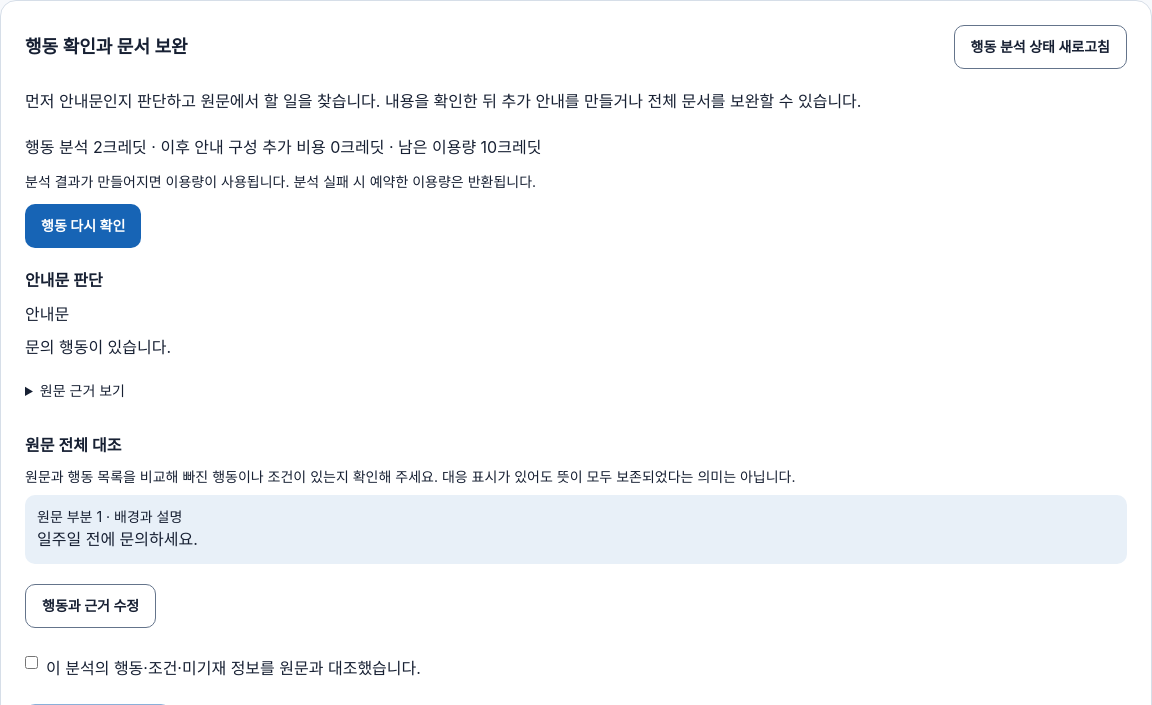
Test: 행동 분석과 보완 흐름 › 다른 버전의 분석을 불러오면 이전 확인 체크를 새 버전에 넘기지 않는다
Step 1. Click the checkbox labelled "이 분석의 행동·조건·미기재 정보를 원문과 대조했습니다." → point(32, 663), box [25,656,38,669]
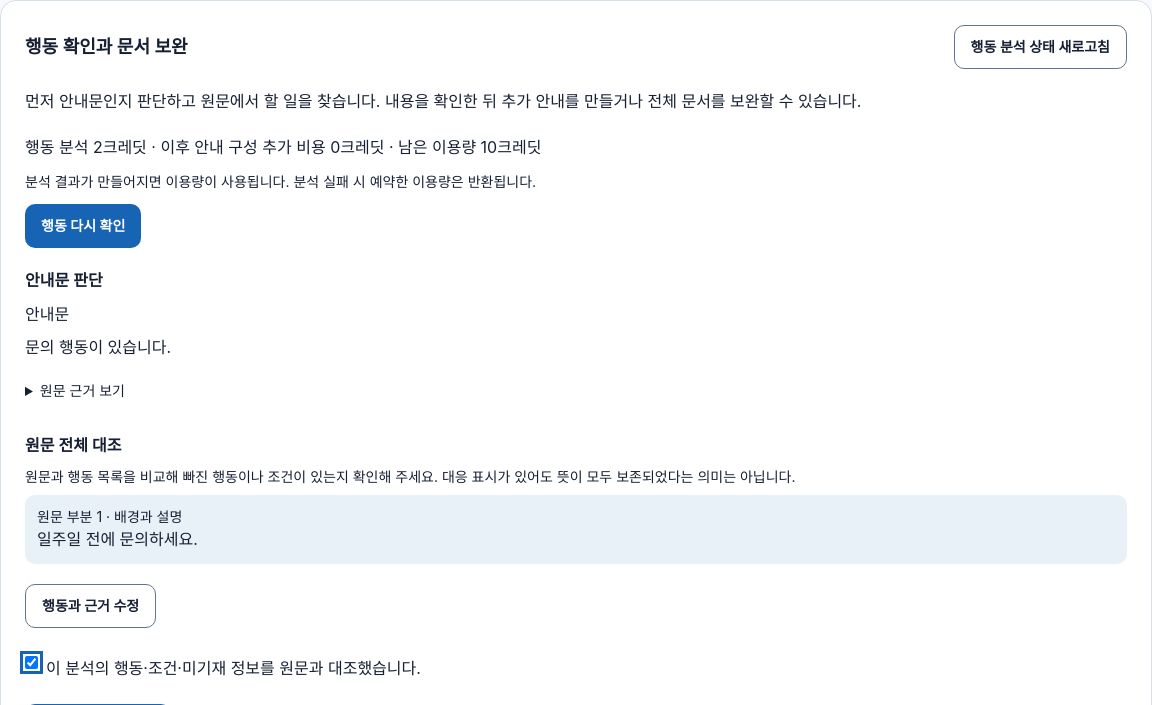
Now the checkbox labelled "이 분석의 행동·조건·미기재 정보를 원문과 대조했습니다." is checked, box [25,656,38,669]
Step 2. Click the button "행동 분석 상태 새로고침" → point(1040, 47), box [954,25,1127,69]
(page scrolled)
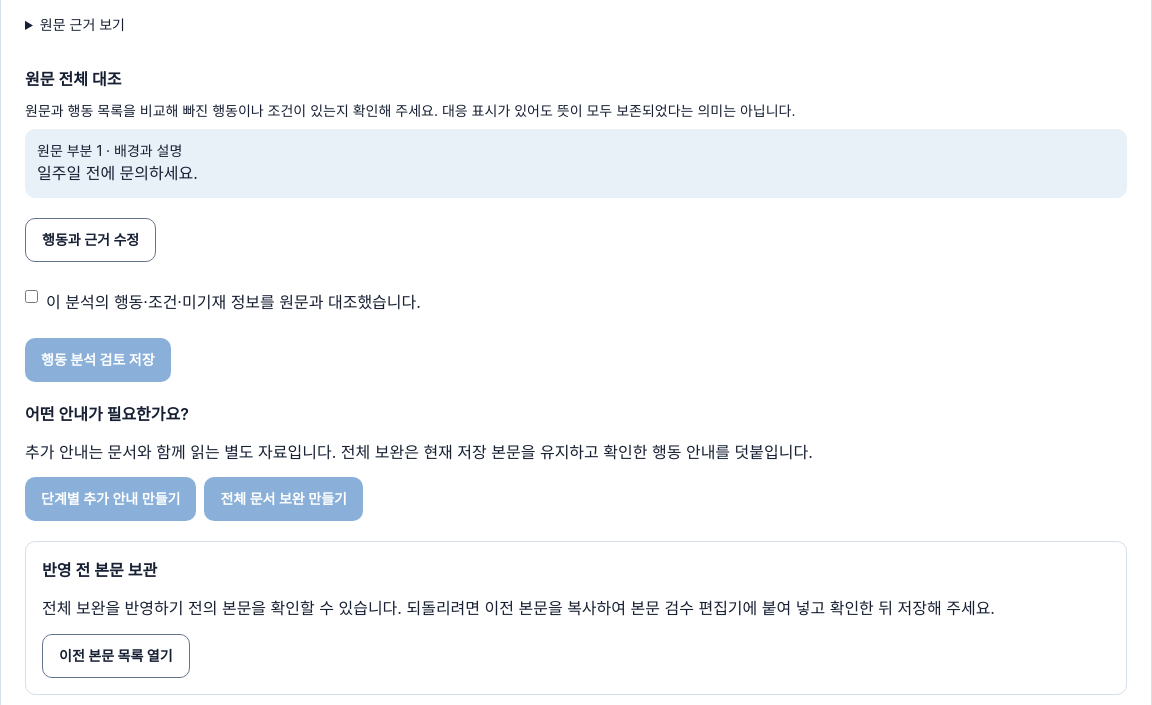
Now the checkbox labelled "이 분석의 행동·조건·미기재 정보를 원문과 대조했습니다." is not checked, box [25,290,38,303]
Now the button "행동 분석 검토 저장" is disabled, box [25,338,171,382]
